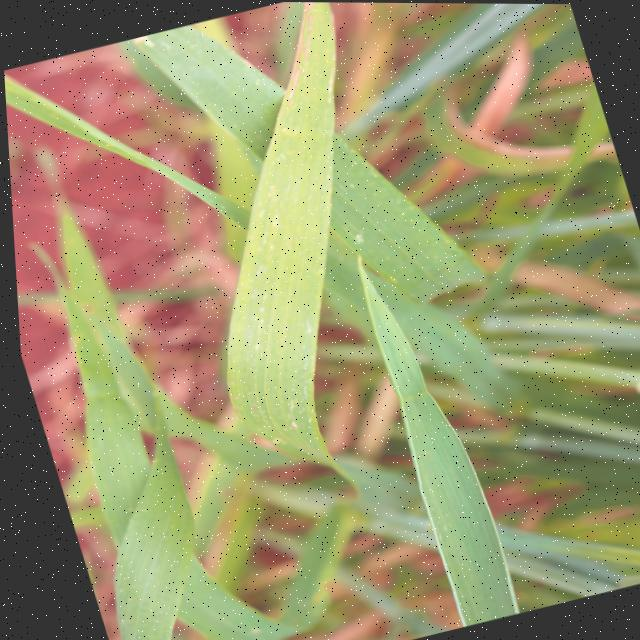healthy_wheat: (7, 144, 265, 640), (312, 231, 533, 634), (459, 292, 640, 606), (301, 118, 483, 324)
yellow_rust: (246, 1, 367, 123)
